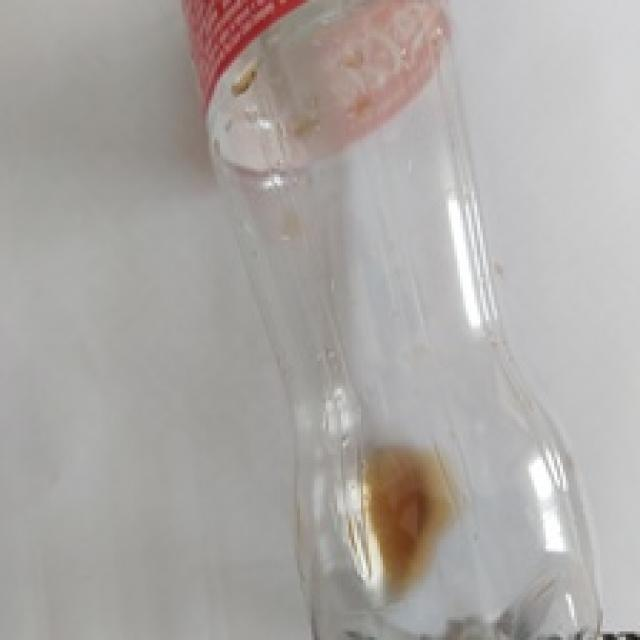Plastic: (178, 0, 602, 640)
